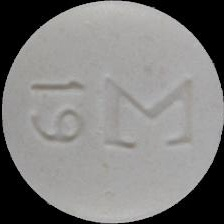42794-019: (0, 0, 224, 224)
